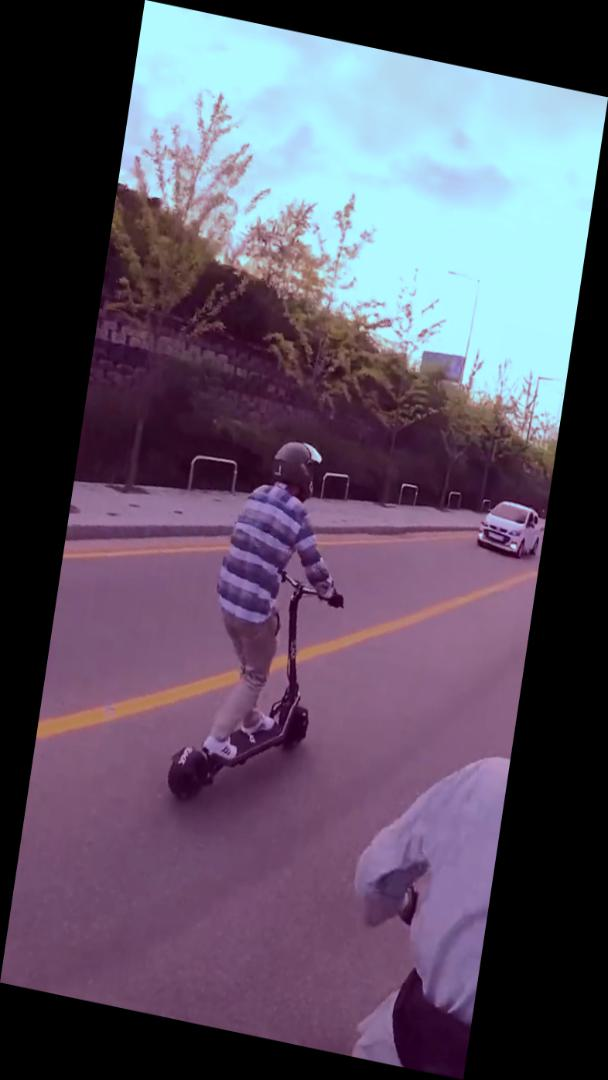helmet: (163, 417, 372, 833)
